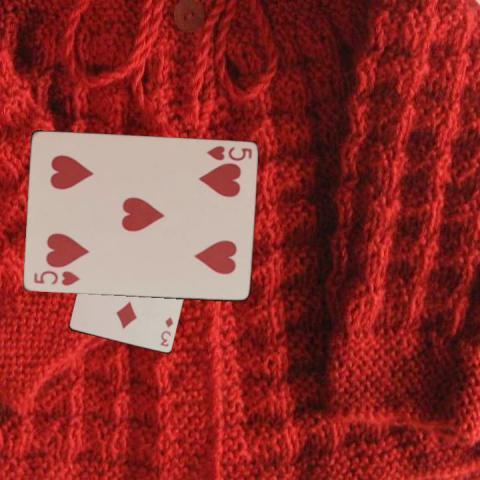3d: (157, 314, 175, 348)
5h: (203, 142, 253, 162), (30, 268, 81, 287)
